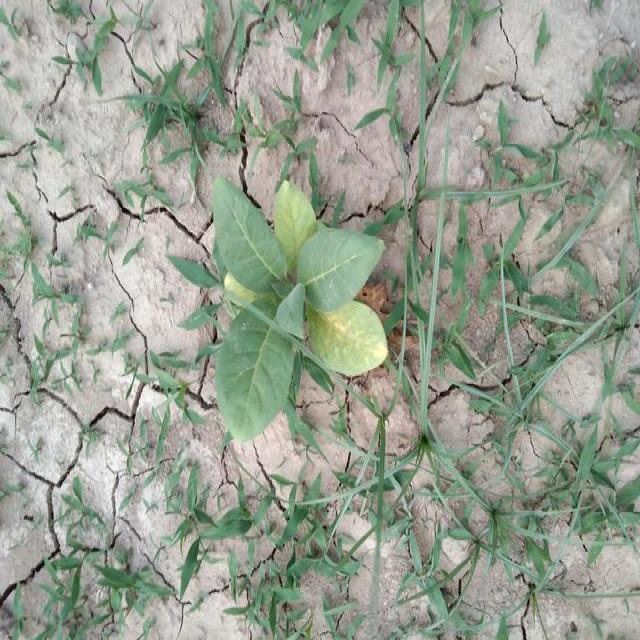crop: (195, 183, 392, 434)
